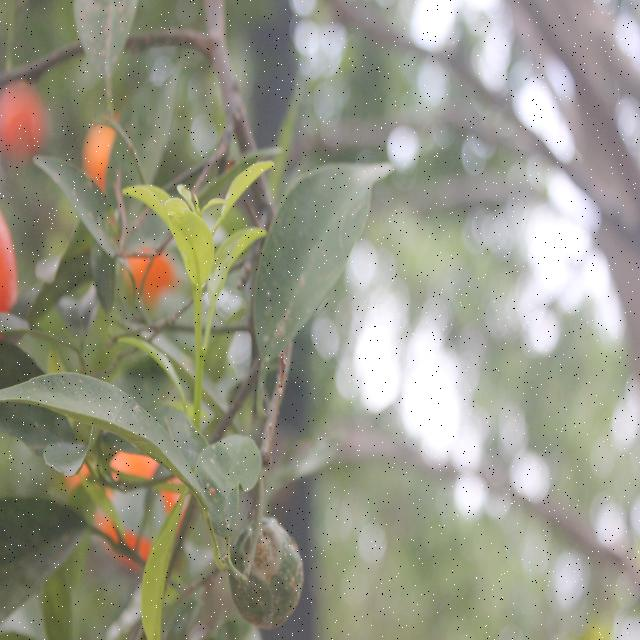canker: (250, 202, 344, 367), (193, 438, 245, 526)
